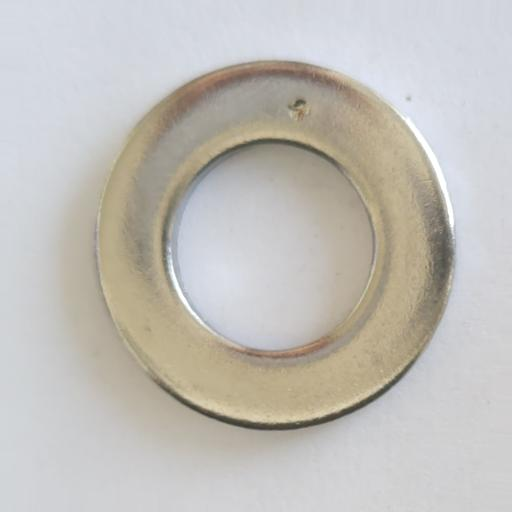circular_cavity: (287, 98, 310, 121)
